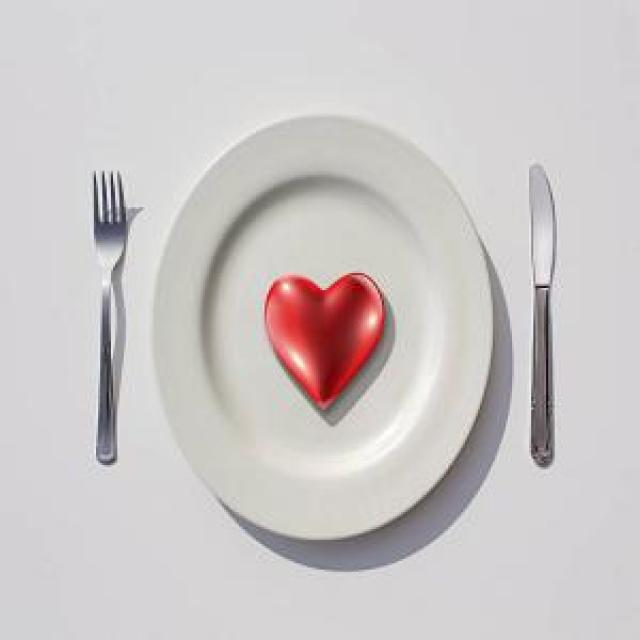knife: (527, 154, 570, 470)
